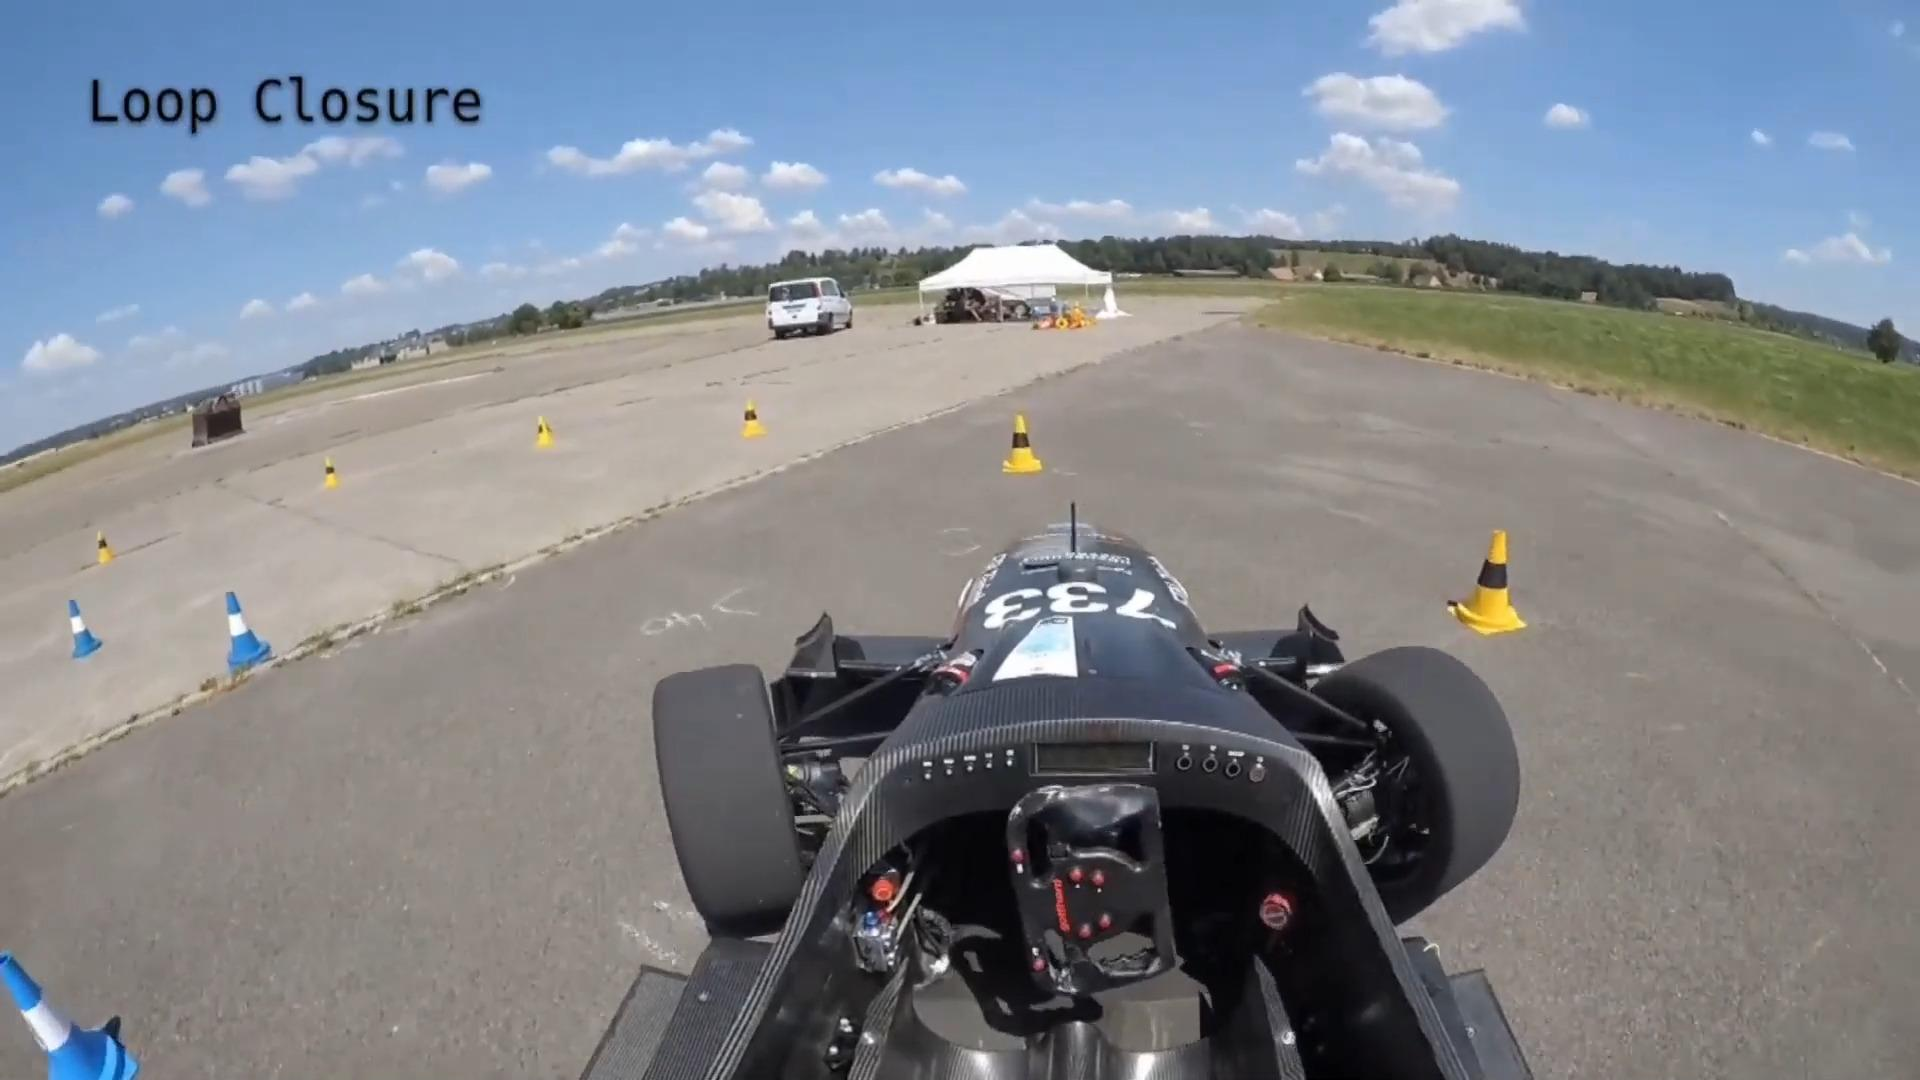blue_cone: (0, 940, 144, 1080), (219, 587, 276, 671), (61, 596, 105, 659)
yellow_cone: (1447, 522, 1532, 641), (1001, 410, 1044, 476), (737, 400, 766, 439), (95, 531, 116, 566), (535, 414, 556, 448), (322, 456, 343, 489)
